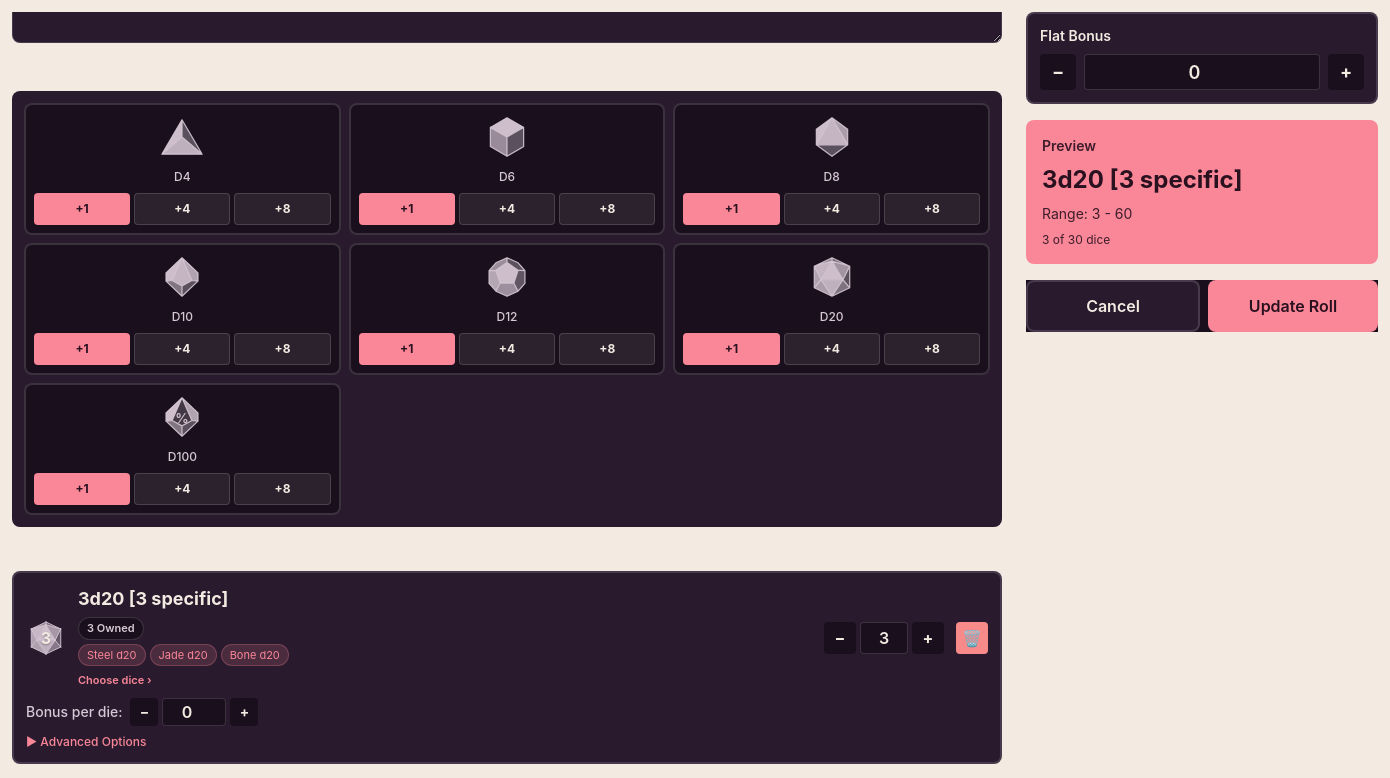
Scenario: RollBuilder › names the owned dice a quick preset had to remove
(page scrolled)
Click the button "▶ Advanced Options".
click(92, 742)  # box left=26, top=734, right=988, bottom=750
(page scrolled)
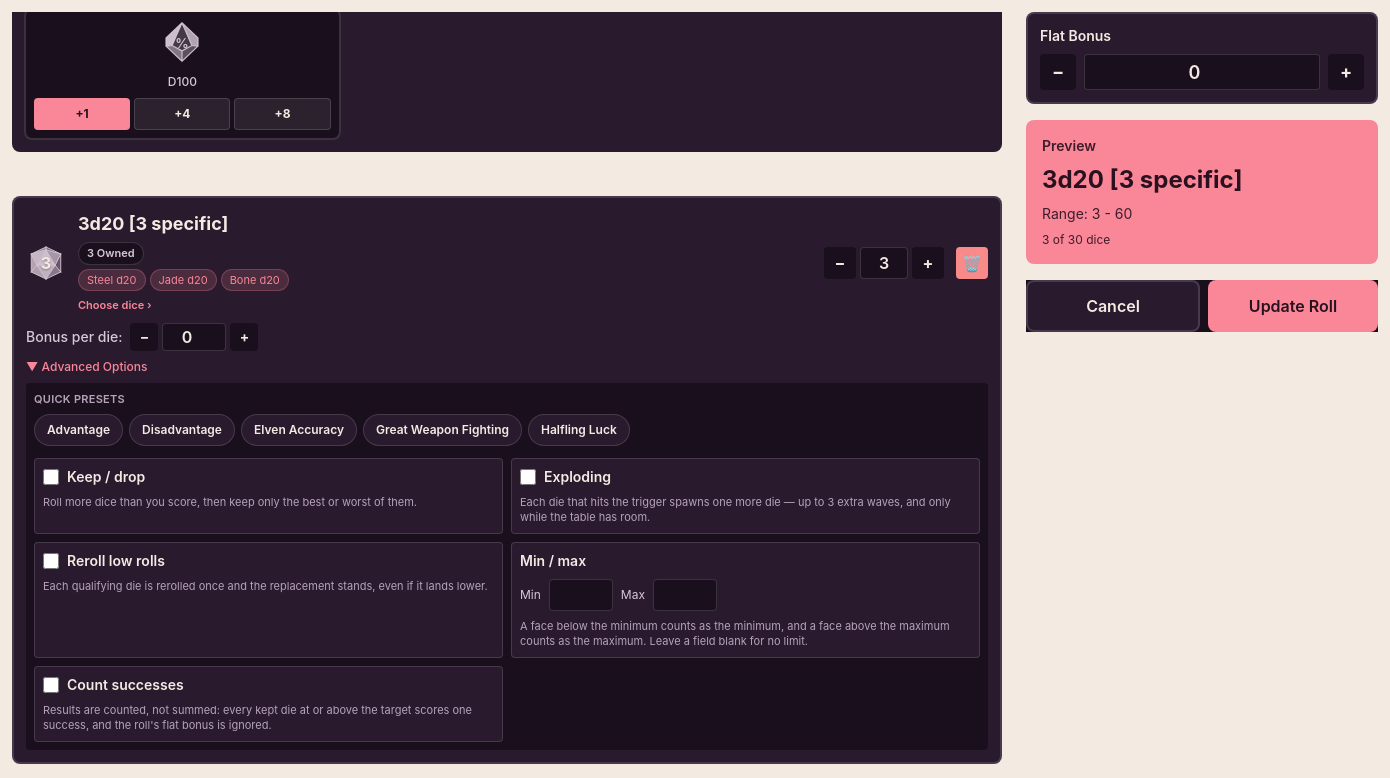
Act — advantage rolls two dice, so the entry has to shed the third
Click the button with aria-label "Apply Advantage to D20".
click(79, 430)  # box left=34, top=414, right=123, bottom=446
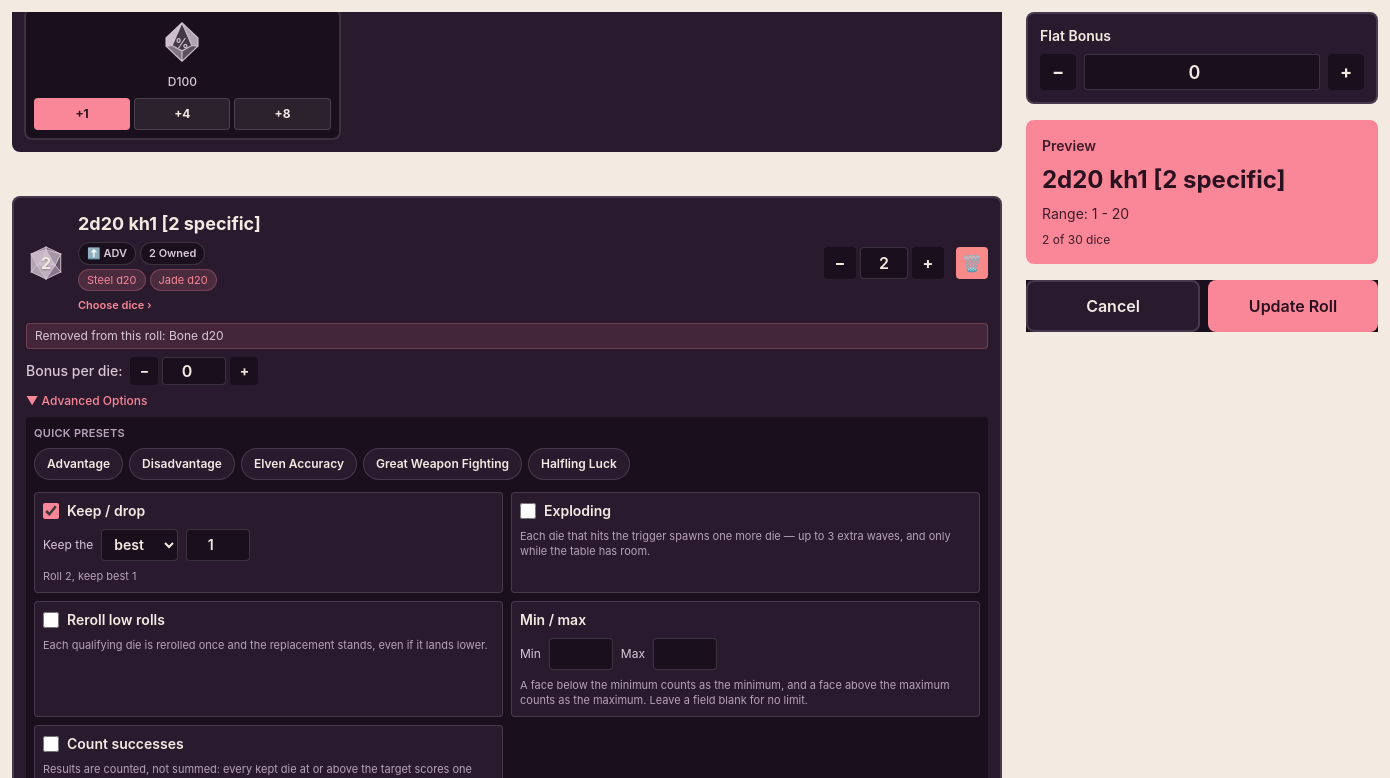
Expected: the message reads "Removed from this roll: Bone d20", left=26, top=323, right=988, bottom=349
